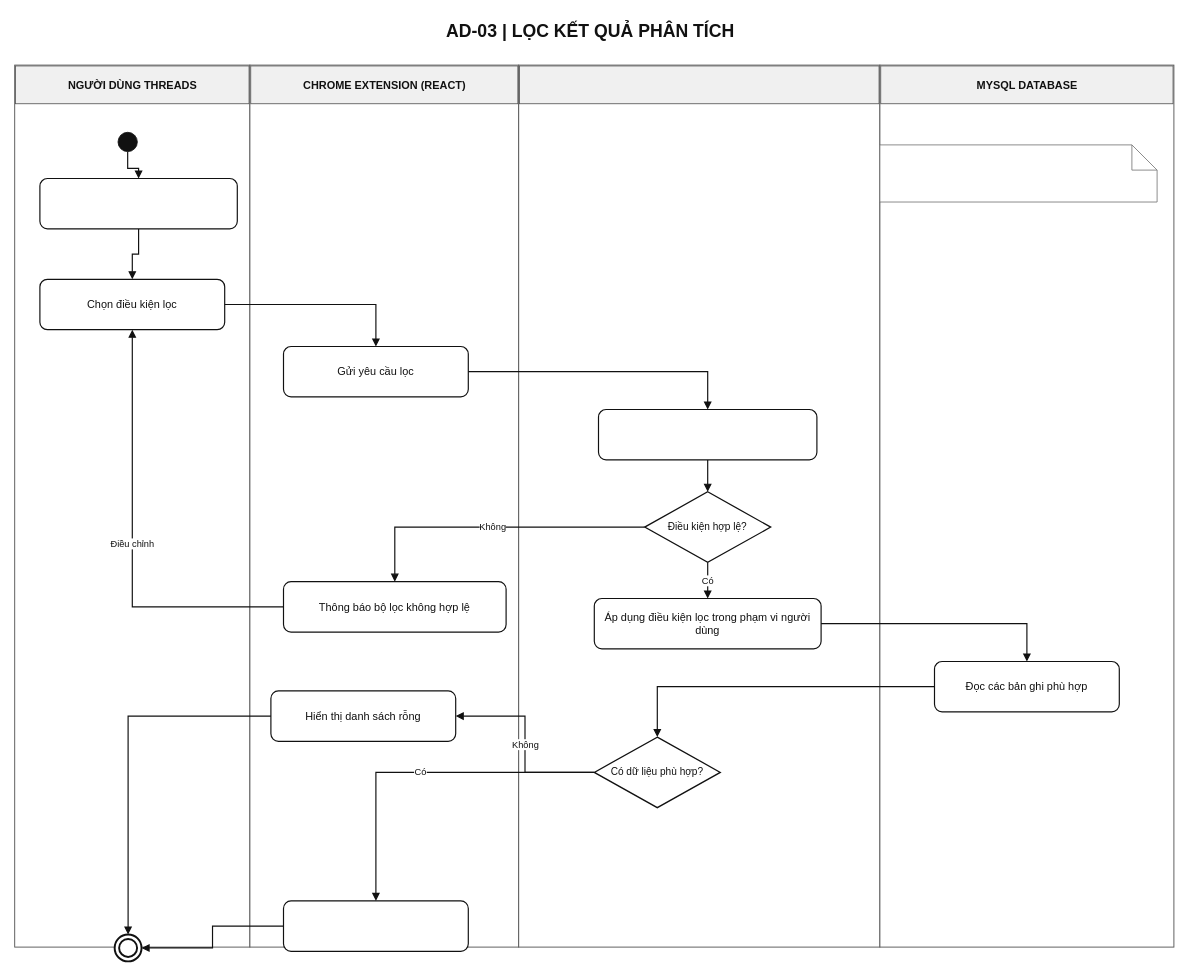
Some shapes in this 1189 by 977 pixel diagram are drawn without their labels. Here are the shapes that lost their labels. From the top down, the box of each, then its label:
(519, 65, 879, 104): SPRING BOOT BACKEND
(879, 144, 1157, 202): README xác nhận lọc bình luận; chưa chốt tiêu chí hoặc giá trị lọc cụ thể.
(39, 177, 237, 229): Mở danh sách bình luận / kết quả
(597, 408, 817, 460): Kiểm tra phiên và điều kiện lọc
(282, 900, 468, 951): Hiển thị kết quả đã lọc
